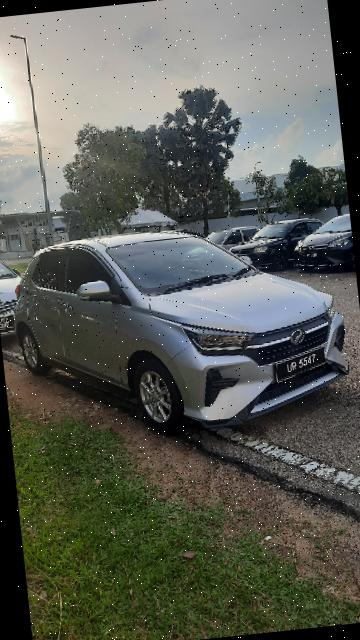License_Plate: (266, 343, 329, 383)
car: (10, 211, 354, 444), (229, 213, 326, 279), (285, 207, 357, 281), (1, 247, 30, 345), (201, 228, 269, 260)
